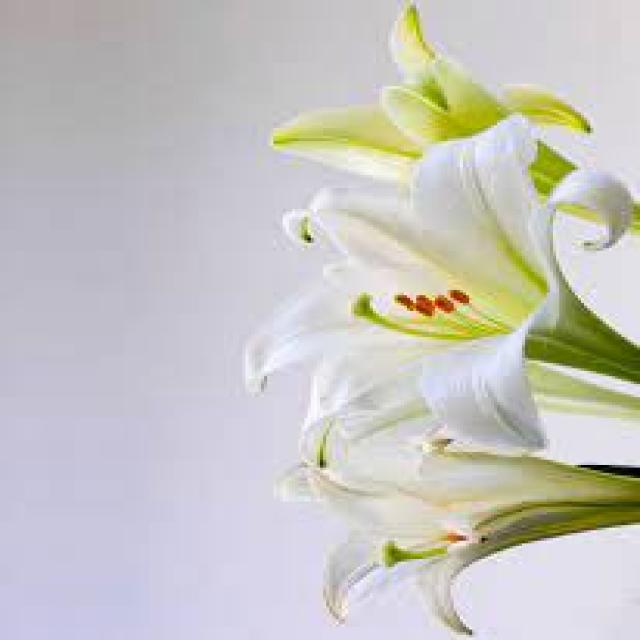lily: (227, 107, 640, 457)
